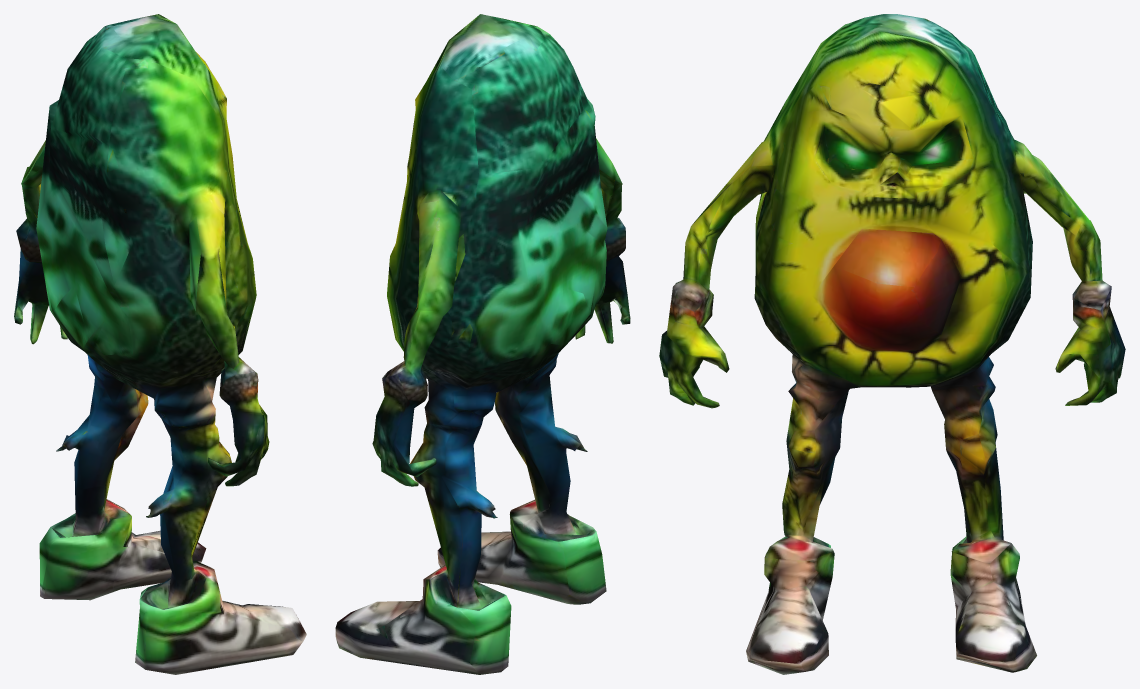
The model's file is zombie.glb.
3 renders of one model, left to right at view 1: azimuth 30°, elevation 25°; view 2: azimuth 150°, elevation 25°; view 3: azimuth 270°, elevation 25°, orthographic.
Parts seen in each view (by area): view 1: Mesh1_Mesh1.003_Material.003_0; view 2: Mesh1_Mesh1.003_Material.003_0; view 3: Mesh1_Mesh1.003_Material.003_0.
Part boxes in pixels (bbox=[...]): Mesh1_Mesh1.003_Material.003_0: bbox=[14, 14, 306, 674]; Mesh1_Mesh1.003_Material.003_0: bbox=[335, 14, 630, 674]; Mesh1_Mesh1.003_Material.003_0: bbox=[659, 14, 1125, 674].
Size of the model in its own units: 0.6332 by 1.98 by 1.38.
1 material, 1 textured.
